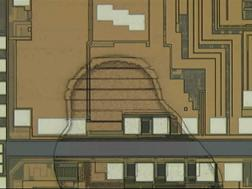COATING BAD: (52, 56, 226, 189)
